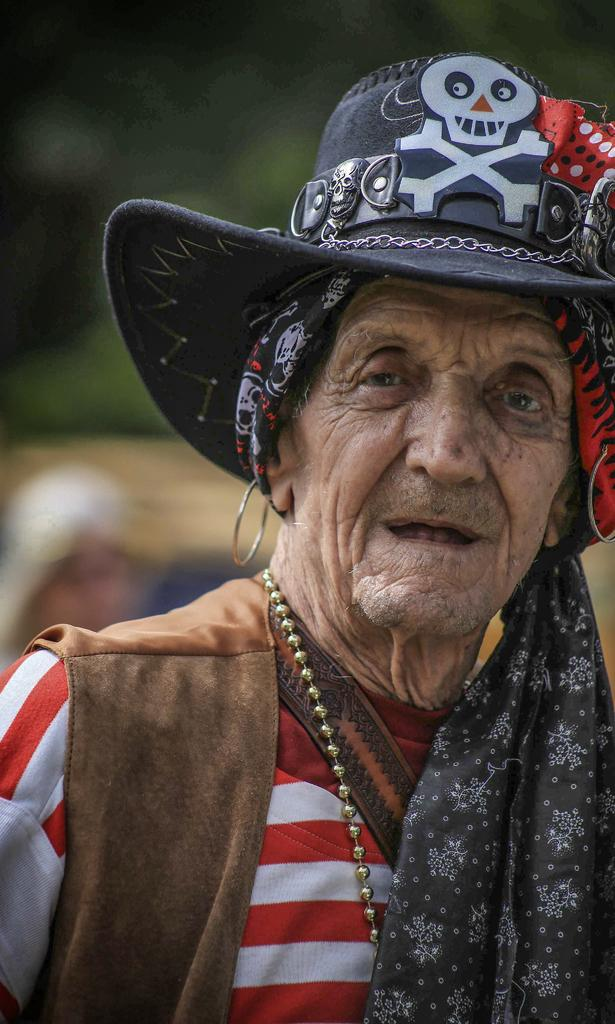Hat: (103, 52, 614, 552)
